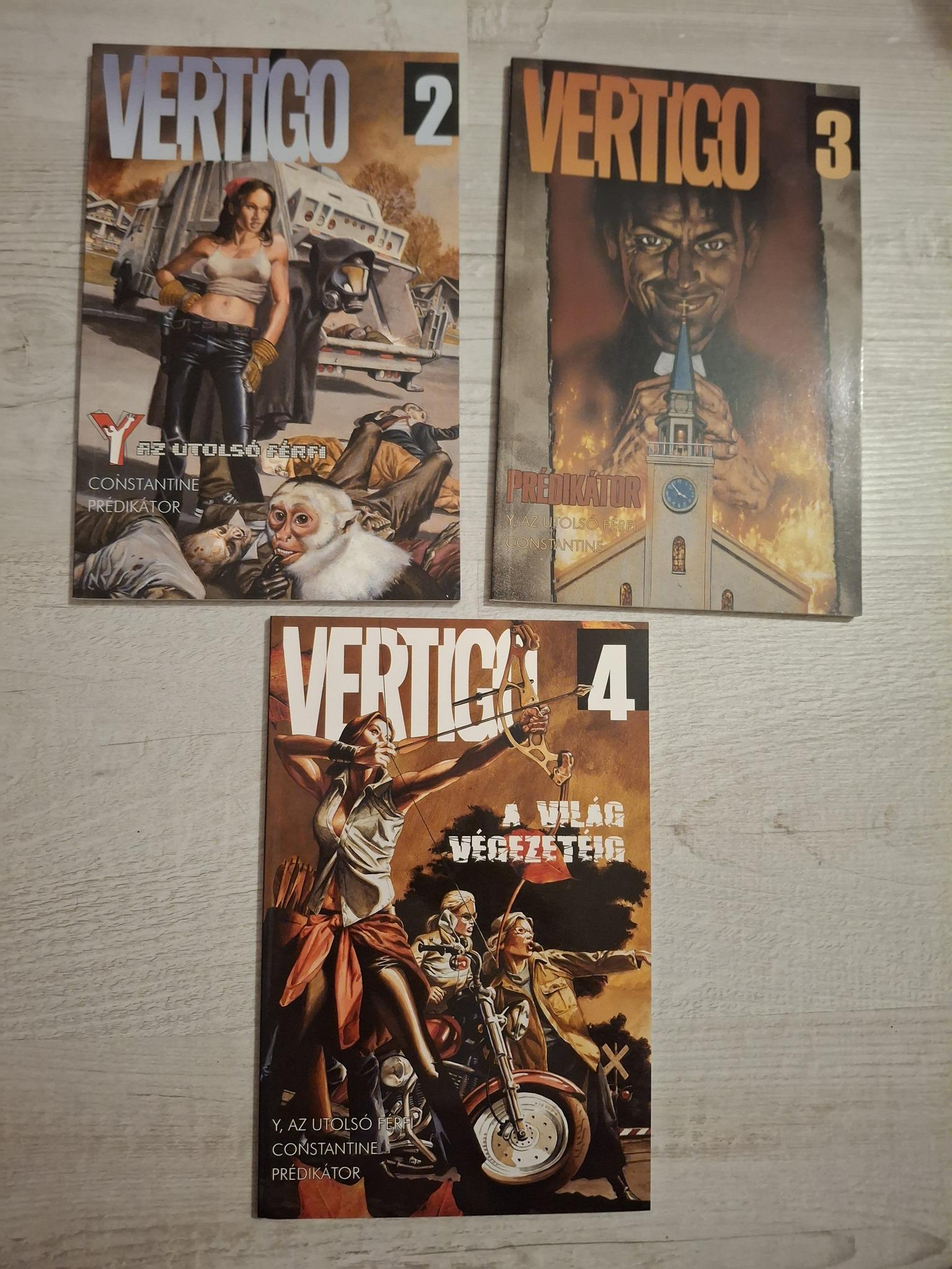comic: (258, 617, 655, 1222), (491, 60, 880, 616), (74, 46, 462, 600)
